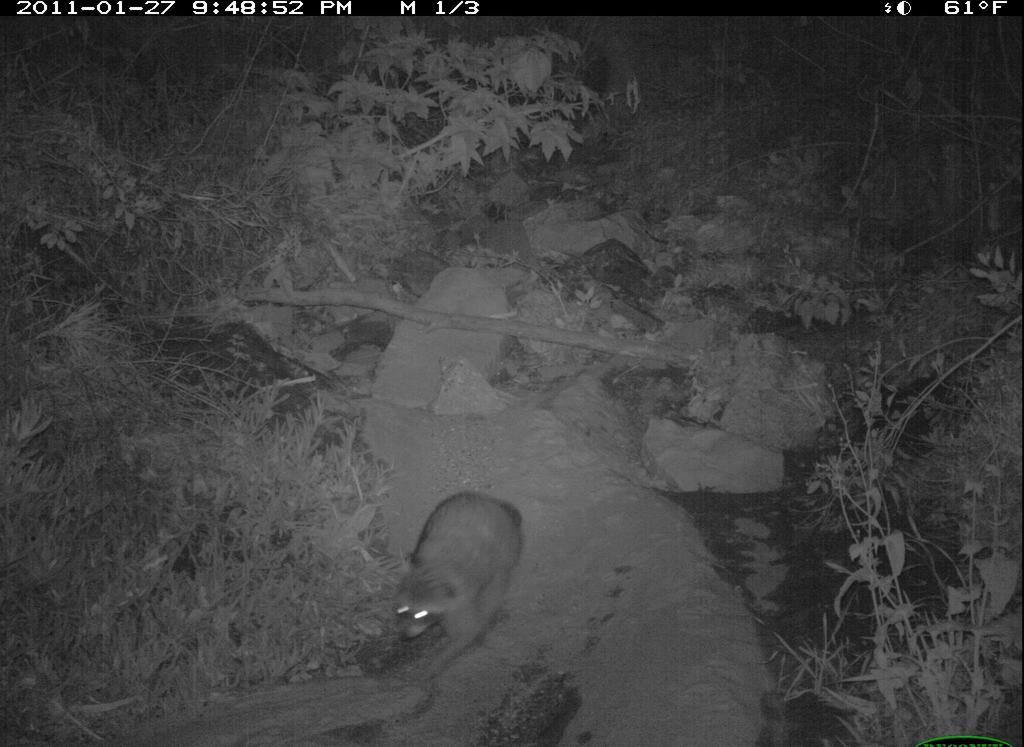raccoon: (385, 478, 537, 676)
